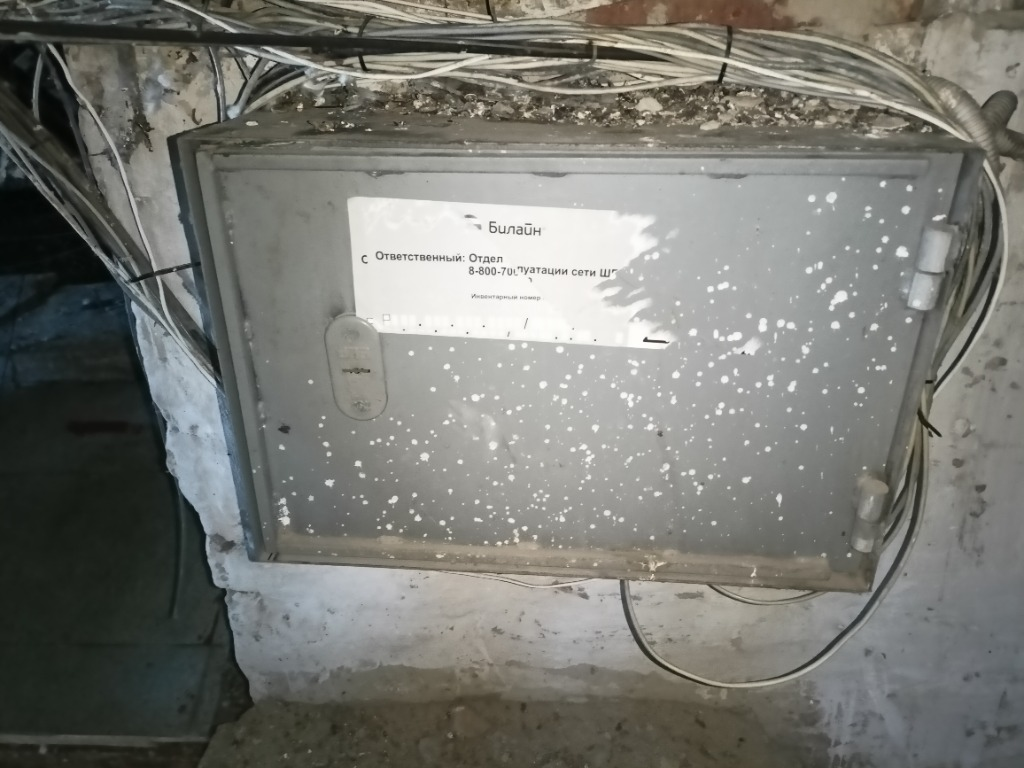e2-6u: (162, 107, 992, 603)
